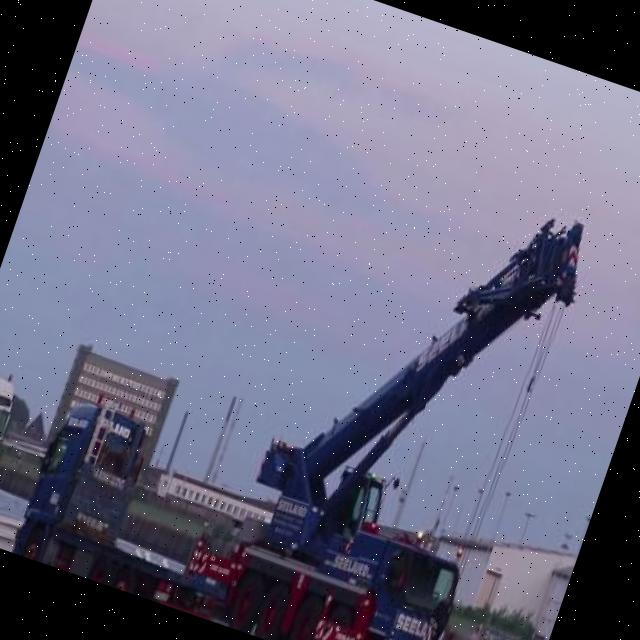Mobile Crane: (171, 131, 596, 640)
